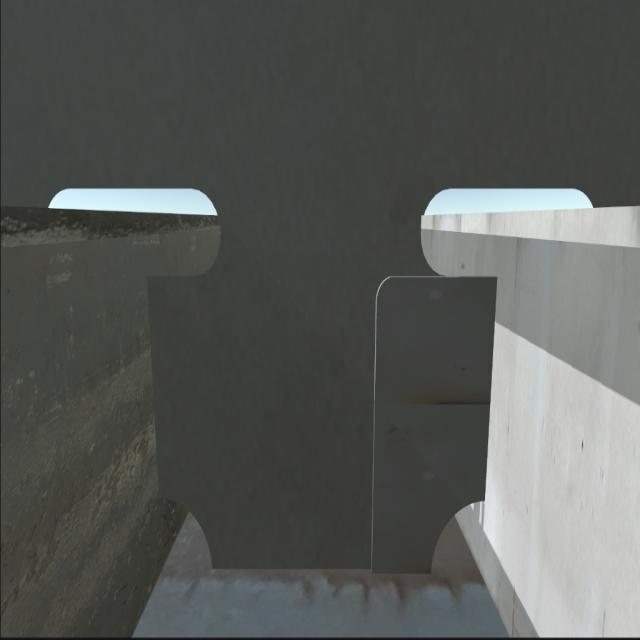fillet_hole: (428, 497, 483, 573), (160, 498, 213, 564)
fillet_yong_jeop_jang: (208, 550, 438, 590)
longi_yong_jeop_jang: (140, 270, 169, 513), (477, 268, 499, 510)
plate_CP05: (370, 272, 495, 573)
